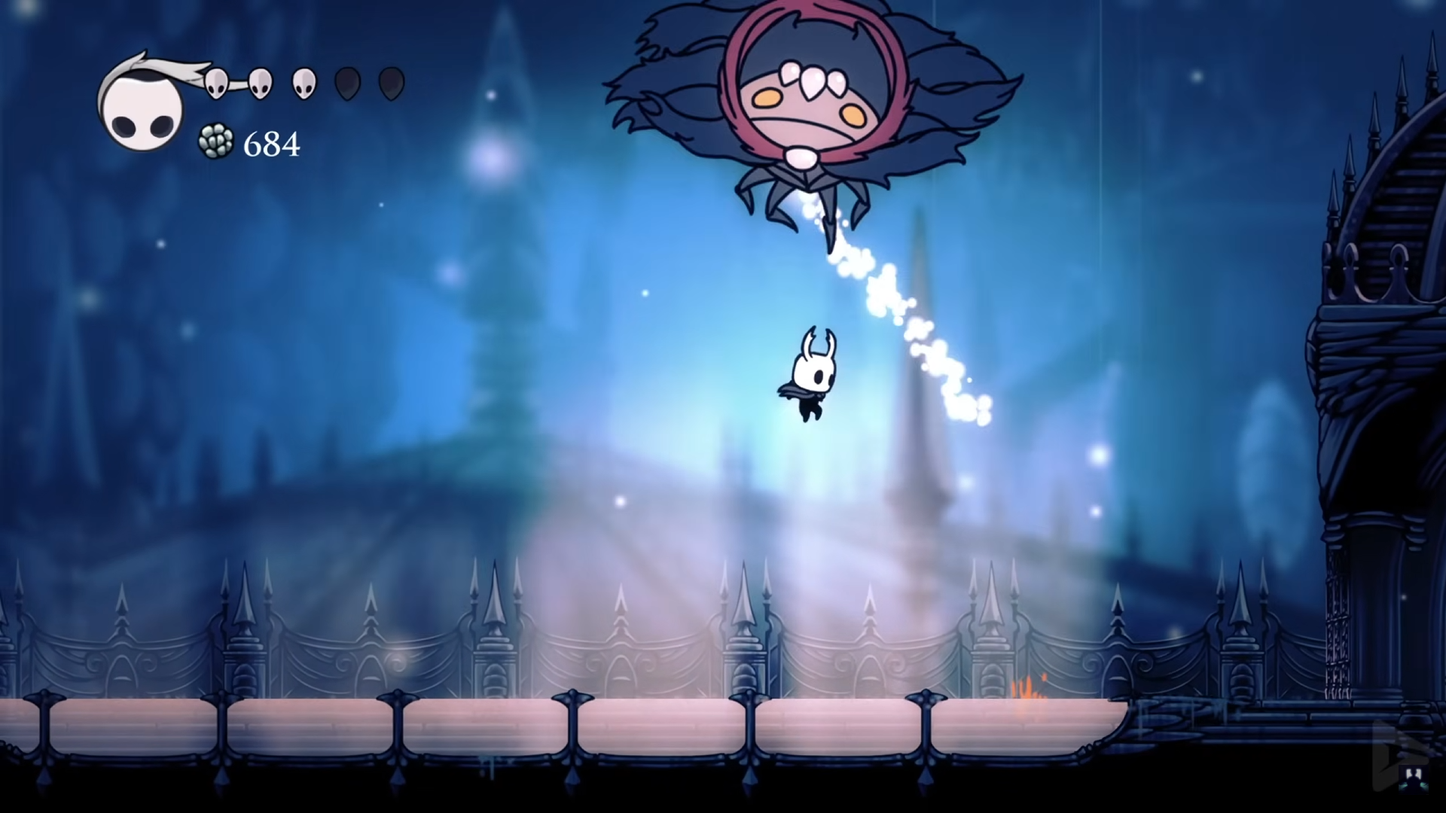HK: (777, 318, 844, 428)
